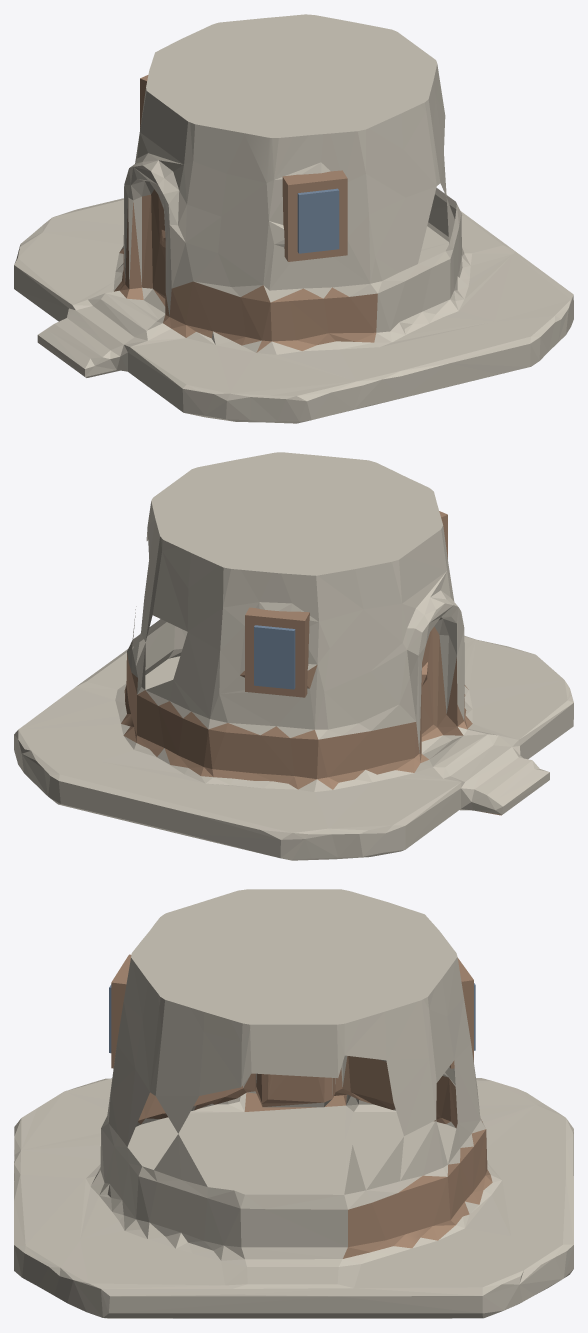
File: etape-1.glb
3 views of the same model, one above another, from view 1: azimuth 30°, elevation 25°; view 2: azimuth 150°, elevation 25°; view 3: azimuth 270°, elevation 25° (orthographic). The views are drawn at different scales.
Visible parts, largest first — view 1: geometry_0; view 2: geometry_0; view 3: geometry_0.
Boxes of the visible parts, x1,y1,x2,y2 form: geometry_0: [14, 14, 573, 423]; geometry_0: [14, 452, 573, 860]; geometry_0: [14, 889, 573, 1318].
Size of the model in its own units: 0.6427 by 0.3309 by 0.6512.
